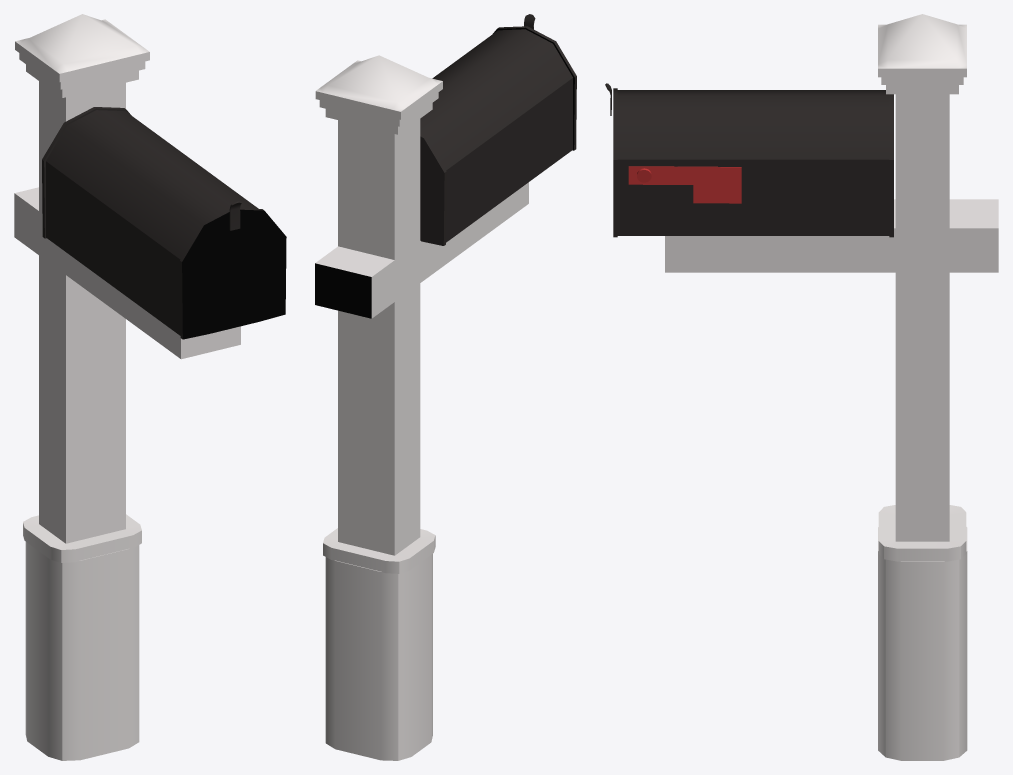
Rendered from mailbox.fbx.
3 renders of one model, left to right at view 1: azimuth 30°, elevation 25°; view 2: azimuth 150°, elevation 25°; view 3: azimuth 270°, elevation 25°, orthographic. The views are drawn at different scales.
Visible parts, largest first — view 1: mailbox6; view 2: mailbox6; view 3: mailbox6.
Part boxes in pixels (<box>): mailbox6: <box>14,14,286,760</box>; mailbox6: <box>315,14,576,760</box>; mailbox6: <box>605,14,998,760</box>.
Bounding box in the file's own units: 0.4445 × 2.85 × 1.4.
